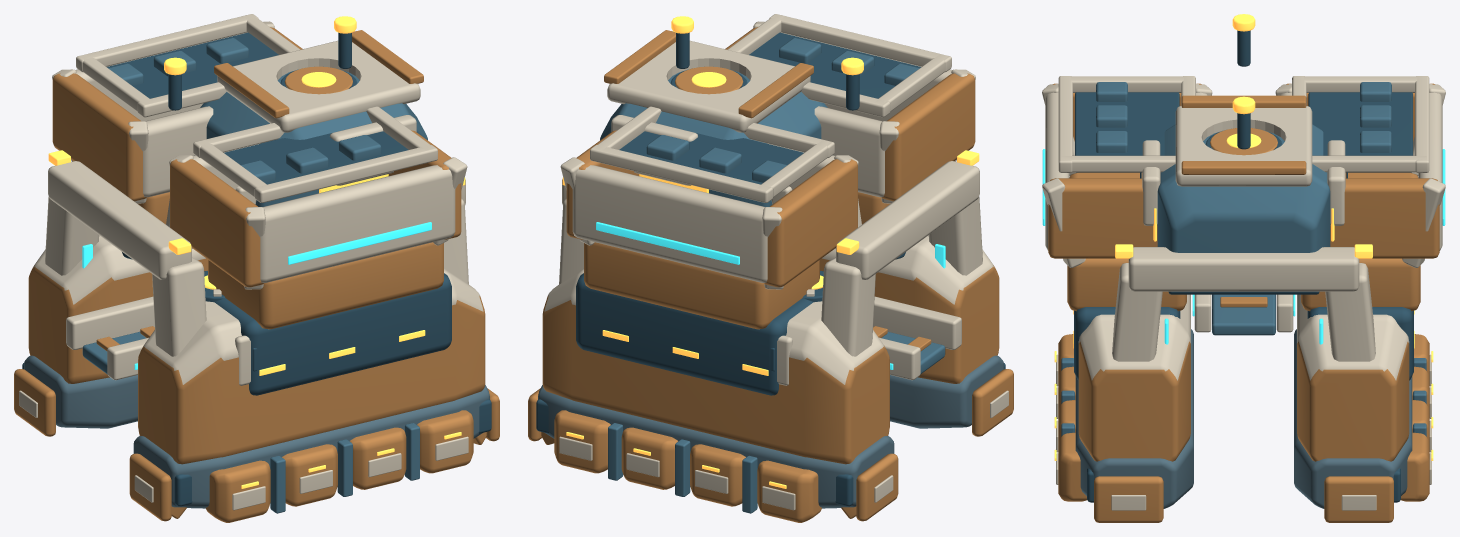
Rendered from refinery.glb.
The picture shows the model from 3 angles, left to right: view 1: azimuth 30°, elevation 25°; view 2: azimuth 150°, elevation 25°; view 3: azimuth 270°, elevation 25°; orthographic projection.
Visible parts, largest first — view 1: Rising ochre load shoulder, Hopper raised side plate, Hopper navy pressure cradle, Hopper ochre lower shell, Rising ochre load shoulder.001, Furnace warm crown plate, Hopper beveled end, Hopper beveled end.002, Ring passage armored crown, Continuous refinery pressure cheek, Continuous refinery pressure cheek.001, Portal flared pressure upright (+43 smaller); view 2: Rising ochre load shoulder.001, Hopper raised side plate.003, Hopper navy pressure cradle.001, Hopper ochre lower shell.001, Rising ochre load shoulder, Furnace warm crown plate, Hopper beveled end.002, Hopper beveled end, Ring passage armored crown, Continuous refinery pressure cheek.001, Continuous refinery pressure cheek, Portal flared pressure upright.002 (+43 smaller); view 3: Rising ochre load shoulder, Rising ochre load shoulder.001, Raised furnace pressure chamber, Ring passage armored crown.001, Furnace warm crown plate, Hopper beveled end.001, Hopper beveled end.003, Dark open hopper throat, Dark open hopper throat.001, Continuous refinery pressure cheek.001, Continuous refinery pressure cheek, Portal flared pressure upright.001 (+43 smaller).
Boxes of the visible parts, box(x1,y1,x2,y2) form: Rising ochre load shoulder: box(138, 268, 485, 464); Hopper raised side plate: box(260, 165, 455, 282); Hopper navy pressure cradle: box(214, 273, 451, 395); Hopper ochre lower shell: box(208, 242, 443, 329); Rising ochre load shoulder.001: box(28, 235, 207, 383); Furnace warm crown plate: box(217, 40, 420, 132); Hopper beveled end: box(170, 159, 263, 287); Hopper beveled end.002: box(52, 73, 146, 201); Ring passage armored crown: box(48, 161, 191, 279); Continuous refinery pressure cheek: box(133, 385, 489, 508); Continuous refinery pressure cheek.001: box(24, 355, 137, 428); Portal flared pressure upright: box(152, 257, 206, 356); Rising ochre load shoulder.001: box(542, 268, 889, 464); Hopper raised side plate.003: box(572, 165, 767, 282); Hopper navy pressure cradle.001: box(576, 273, 813, 395); Hopper ochre lower shell.001: box(584, 242, 819, 329); Rising ochre load shoulder: box(820, 235, 999, 383); Furnace warm crown plate: box(607, 40, 810, 132); Hopper beveled end.002: box(764, 159, 857, 287); Hopper beveled end: box(881, 73, 975, 201); Ring passage armored crown: box(836, 161, 979, 279); Continuous refinery pressure cheek.001: box(538, 385, 894, 508); Continuous refinery pressure cheek: box(890, 355, 1003, 428); Portal flared pressure upright.002: box(821, 257, 875, 356); Rising ochre load shoulder: box(1078, 294, 1190, 461); Rising ochre load shoulder.001: box(1297, 294, 1409, 461); Raised furnace pressure chamber: box(1157, 124, 1330, 252); Ring passage armored crown.001: box(1128, 247, 1359, 291); Furnace warm crown plate: box(1175, 106, 1312, 186); Hopper beveled end.001: box(1048, 178, 1157, 258); Hopper beveled end.003: box(1330, 178, 1439, 258); Dark open hopper throat: box(1075, 92, 1179, 172); Dark open hopper throat.001: box(1308, 92, 1412, 172); Continuous refinery pressure cheek.001: box(1294, 329, 1412, 508); Continuous refinery pressure cheek: box(1075, 329, 1193, 508); Portal flared pressure upright.001: box(1112, 263, 1162, 361).
Bounding box in the file's own units: 2.61 × 2.82 × 2.66.
